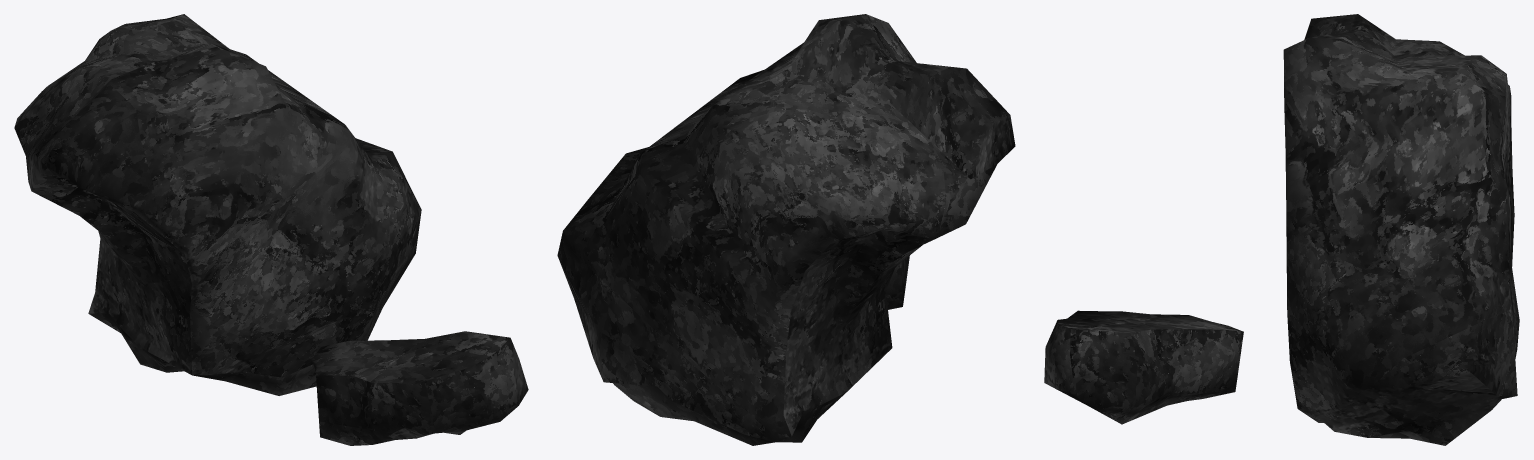
The model's file is shi6.FBX.
The picture shows the model from 3 angles, left to right: view 1: azimuth 30°, elevation 25°; view 2: azimuth 150°, elevation 25°; view 3: azimuth 270°, elevation 25°; orthographic projection. The views are drawn at different scales.
Visible parts, largest first — view 1: stone_011_01; view 2: stone_011_01; view 3: stone_011_01.
Part boxes in pixels (x1,y1,x2,y2): stone_011_01: (14, 14, 528, 445); stone_011_01: (557, 14, 1015, 445); stone_011_01: (1044, 14, 1519, 445).
Bounding box in the file's own units: 327 × 303 × 381.
